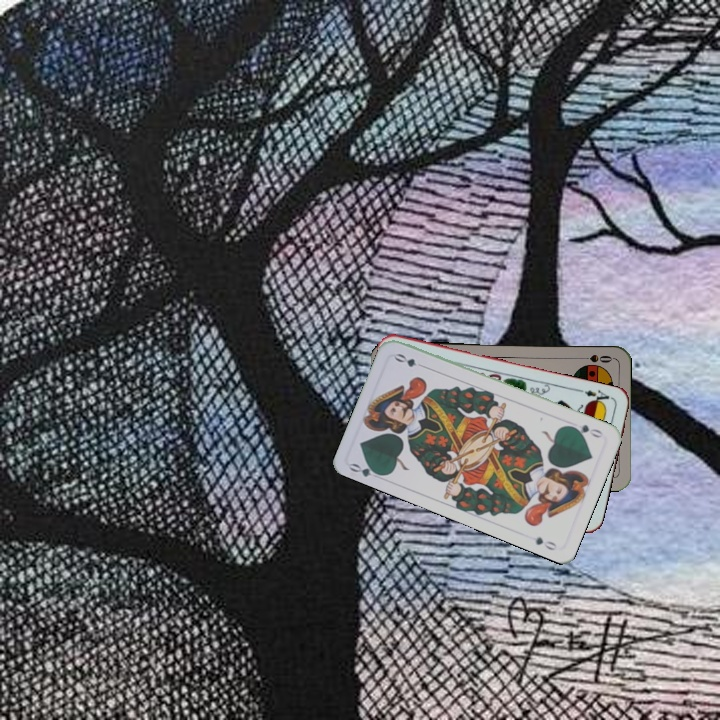EA: (575, 385, 612, 407)
GO: (346, 459, 387, 480), (566, 420, 606, 440)
SO: (574, 351, 615, 365)
